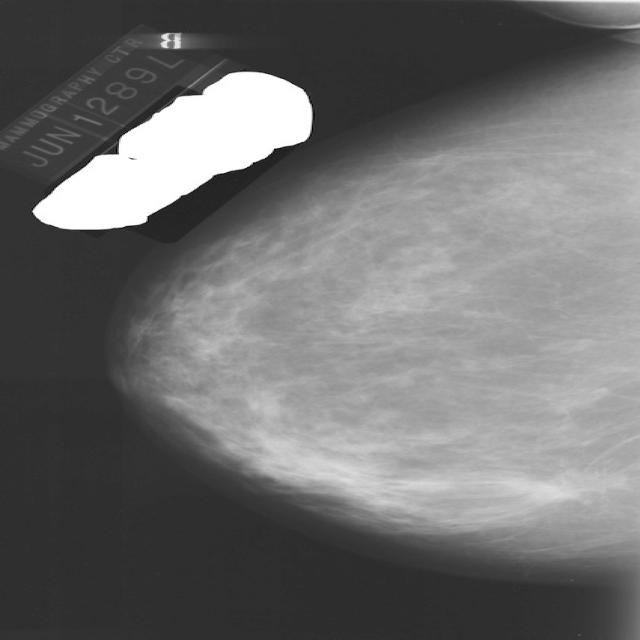tumour: (510, 468, 622, 500)
